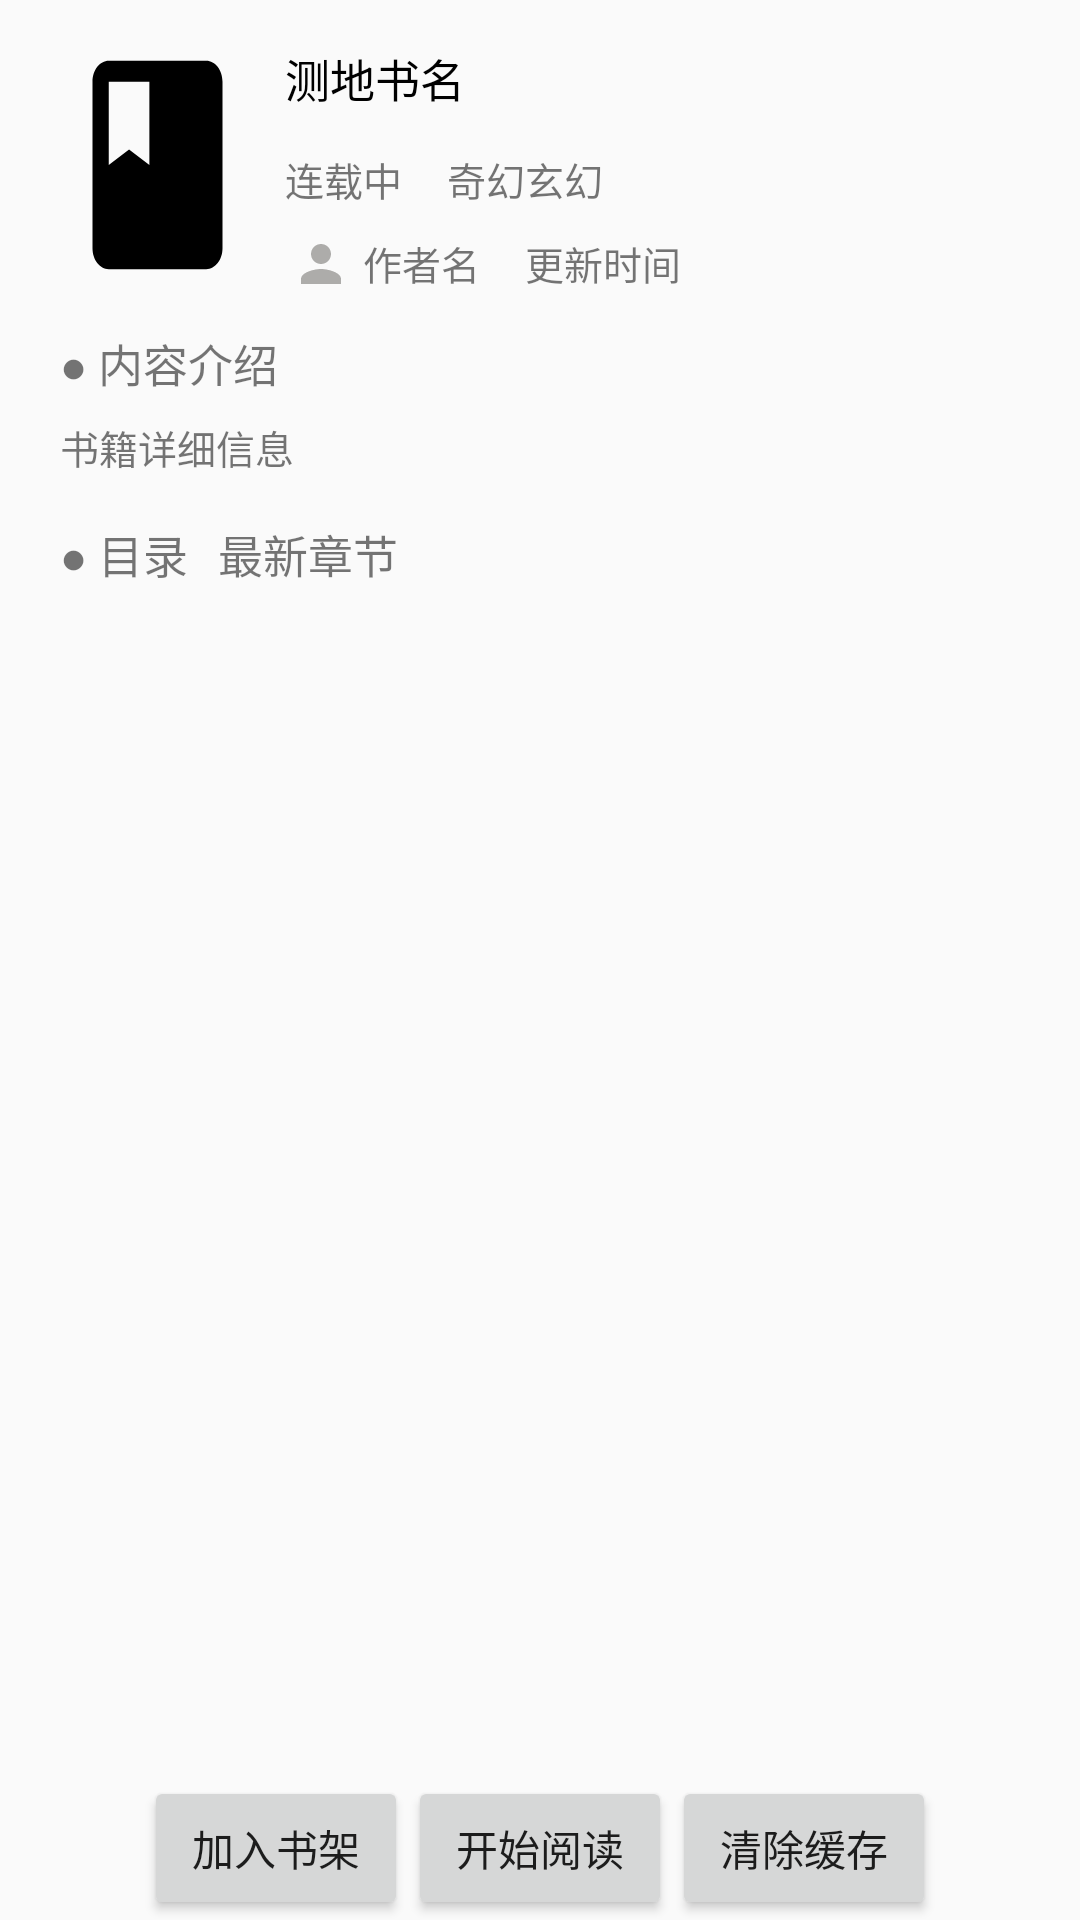

Screen size 1080x1920. Icon name, then its center in pixels as (x,y):
book: (157,165)
person: (321,264)
